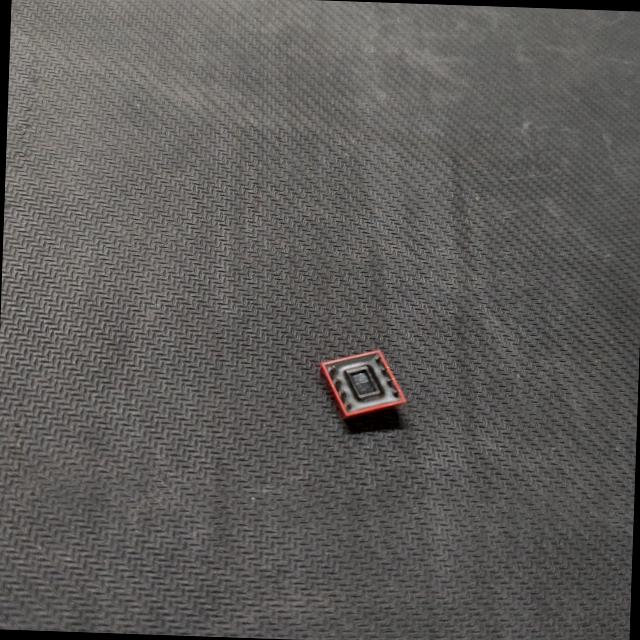switch: (275, 338, 438, 441)
